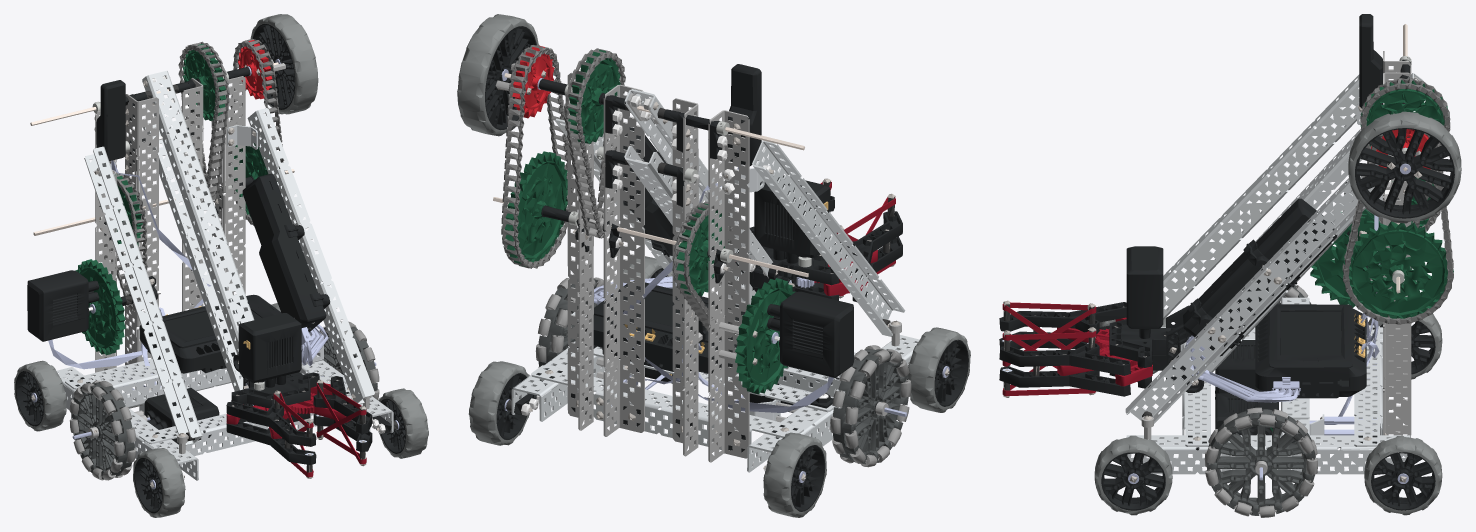
The model's file is flex.glb.
3 renders of one model, left to right at view 1: azimuth 30°, elevation 25°; view 2: azimuth 150°, elevation 25°; view 3: azimuth 270°, elevation 25°, orthographic. The views are drawn at different scales.
Parts seen in each view (by area): view 1: Open CASCADE STEP translator 8.0 14:1 (×4), Claw Arm Structure-1/276-4840-000 Simplified Model_rev2-1/27 (×3), 276-4811-000 Simplified Model_rev2-1/276-4811-000 Simplified, Open CASCADE STEP translator 8.0 9 (1):1 (×3), 2x2x25 Aluminum Angle:3, 2x2x25 Aluminum Angle:1, Drive Base-1/276-4810 Simplified Model-1/276-4810 Simplified (×3), Open CASCADE STEP translator 8.0 4 (1):1 (×2), 276-8107-001 Rev2 [Default]:2, 276-8103-002 Rev2 [Default]:1, 2x2x25 Aluminum Angle:2, Claw Arm Structure-1/276-4831-000 Simplified Model-1/276-483 (+24 smaller); view 2: Open CASCADE STEP translator 8.0 14:1 (×4), 2x2x25 Aluminum Angle:2, 2x2x25 Aluminum Angle:4, Claw Arm Structure-1/276-4840-000 Simplified Model_rev2-1/27 (×2), Open CASCADE STEP translator 8.0 4 (1):1 (×2), Open CASCADE STEP translator 8.0 9 (1):1 (×3), 2x2x25 Aluminum Angle:1, 2x2x25 Aluminum Angle:3, 276-8107-001 Rev2 [Default]:2, Open CASCADE STEP translator 8.0 10 (1):1 (×2), Drive Base-1/276-4810 Simplified Model-1/276-4810 Simplified (×3), 276-8103-002 Rev2 [Default]:1 (+18 smaller); view 3: Open CASCADE STEP translator 8.0 14:1 (×4), Drive Base-1/276-4810 Simplified Model-1/276-4810 Simplified (×3), Open CASCADE STEP translator 8.0 4 (1):1 (×2), 276-8107-001 Rev2 [Default]:1, 276-8103-001 Rev2 [Default]:1, Claw Arm Structure-1/276-4840-000 Simplified Model_rev2-1/27 (×3), Open CASCADE STEP translator 8.0 9 (1):1 (×2), 276-4811-000 Simplified Model_rev2-1/276-4811-000 Simplified, 2x2x25 Aluminum Angle:1, 276-8103-002 Rev2 [Default]:1, 276-8098-001 Rev2 [Default]:2, 276-8098-001 Rev2 [Default]:1 (+17 smaller).
Boxes of the visible parts, bbox=[...] form: Open CASCADE STEP translator 8.0 14:1 (×4): bbox=[84, 70, 374, 445]; Claw Arm Structure-1/276-4840-000 Simplified Model_rev2-1/27 (×3): bbox=[27, 270, 301, 444]; 276-4811-000 Simplified Model_rev2-1/276-4811-000 Simplified: bbox=[242, 173, 326, 332]; Open CASCADE STEP translator 8.0 9 (1):1 (×3): bbox=[56, 333, 393, 480]; 2x2x25 Aluminum Angle:3: bbox=[125, 94, 158, 369]; 2x2x25 Aluminum Angle:1: bbox=[211, 76, 245, 298]; Drive Base-1/276-4810 Simplified Model-1/276-4810 Simplified (×3): bbox=[139, 294, 281, 373]; Open CASCADE STEP translator 8.0 4 (1):1 (×2): bbox=[75, 143, 279, 355]; 276-8107-001 Rev2 [Default]:2: bbox=[71, 382, 134, 478]; 276-8103-002 Rev2 [Default]:1: bbox=[250, 14, 318, 114]; 2x2x25 Aluminum Angle:2: bbox=[182, 78, 203, 311]; Claw Arm Structure-1/276-4831-000 Simplified Model-1/276-483: bbox=[96, 80, 125, 160]; Open CASCADE STEP translator 8.0 14:1 (×4): bbox=[554, 89, 905, 336]; 2x2x25 Aluminum Angle:2: bbox=[603, 84, 644, 436]; 2x2x25 Aluminum Angle:4: bbox=[708, 110, 749, 462]; Claw Arm Structure-1/276-4840-000 Simplified Model_rev2-1/27 (×2): bbox=[754, 175, 853, 377]; Open CASCADE STEP translator 8.0 4 (1):1 (×2): bbox=[505, 151, 795, 394]; Open CASCADE STEP translator 8.0 9 (1):1 (×3): bbox=[511, 312, 919, 472]; 2x2x25 Aluminum Angle:1: bbox=[567, 72, 593, 430]; 2x2x25 Aluminum Angle:3: bbox=[672, 98, 698, 456]; 276-8107-001 Rev2 [Default]:2: bbox=[833, 348, 908, 464]; Open CASCADE STEP translator 8.0 10 (1):1 (×2): bbox=[568, 50, 728, 296]; Drive Base-1/276-4810 Simplified Model-1/276-4810 Simplified (×3): bbox=[585, 281, 745, 373]; 276-8103-002 Rev2 [Default]:1: bbox=[457, 14, 539, 136]; Open CASCADE STEP translator 8.0 14:1 (×4): bbox=[1125, 73, 1423, 423]; Drive Base-1/276-4810 Simplified Model-1/276-4810 Simplified (×3): bbox=[1255, 304, 1366, 398]; Open CASCADE STEP translator 8.0 4 (1):1 (×2): bbox=[1310, 211, 1453, 318]; 276-8107-001 Rev2 [Default]:1: bbox=[1206, 409, 1315, 515]; 276-8103-001 Rev2 [Default]:1: bbox=[1355, 128, 1454, 218]; Claw Arm Structure-1/276-4840-000 Simplified Model_rev2-1/27 (×3): bbox=[1126, 246, 1278, 435]; Open CASCADE STEP translator 8.0 9 (1):1 (×2): bbox=[1126, 297, 1410, 474]; 276-4811-000 Simplified Model_rev2-1/276-4811-000 Simplified: bbox=[1183, 198, 1337, 356]; 2x2x25 Aluminum Angle:1: bbox=[1383, 178, 1411, 437]; 276-8103-002 Rev2 [Default]:1: bbox=[1348, 111, 1461, 223]; 276-8098-001 Rev2 [Default]:2: bbox=[1371, 452, 1435, 510]; 276-8098-001 Rev2 [Default]:1: bbox=[1101, 452, 1165, 510].
Size of the model in its own units: 0.3545 by 0.3937 by 0.4135.
